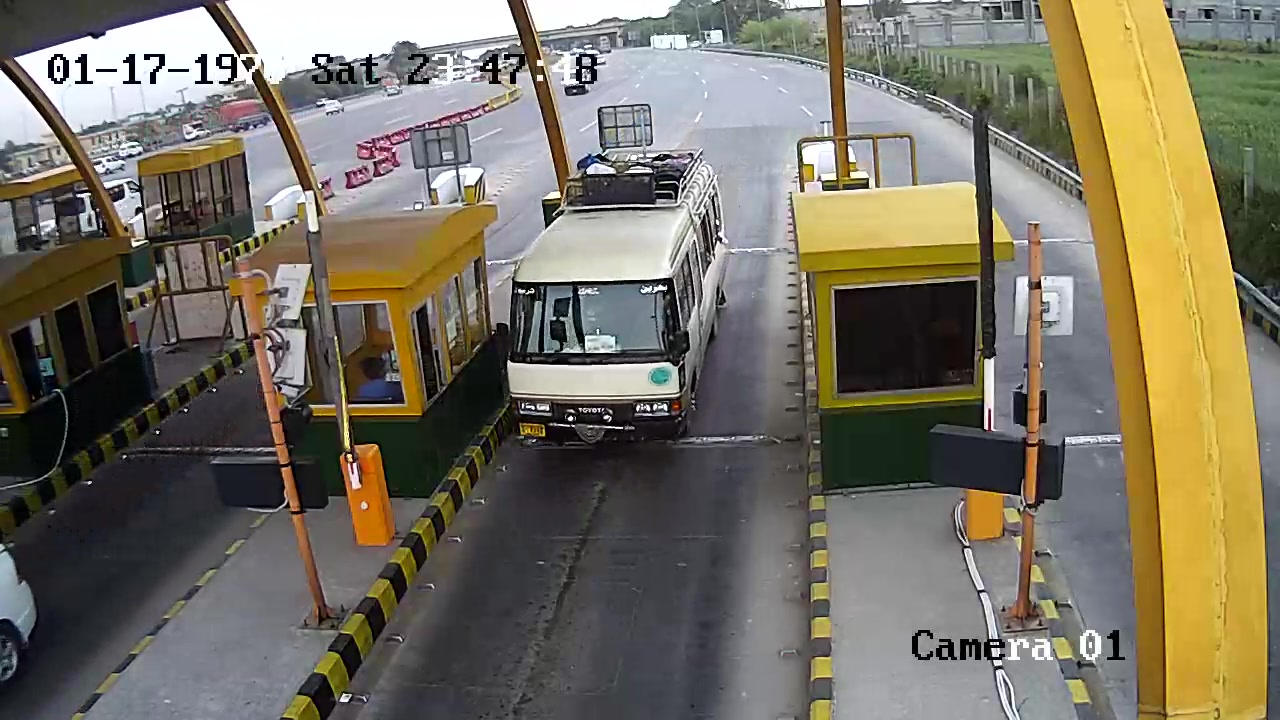F3: (506, 137, 731, 462)
